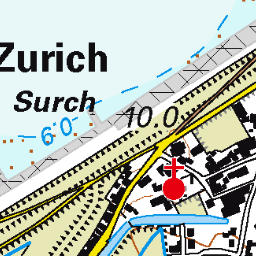church: (159, 157, 188, 205)
